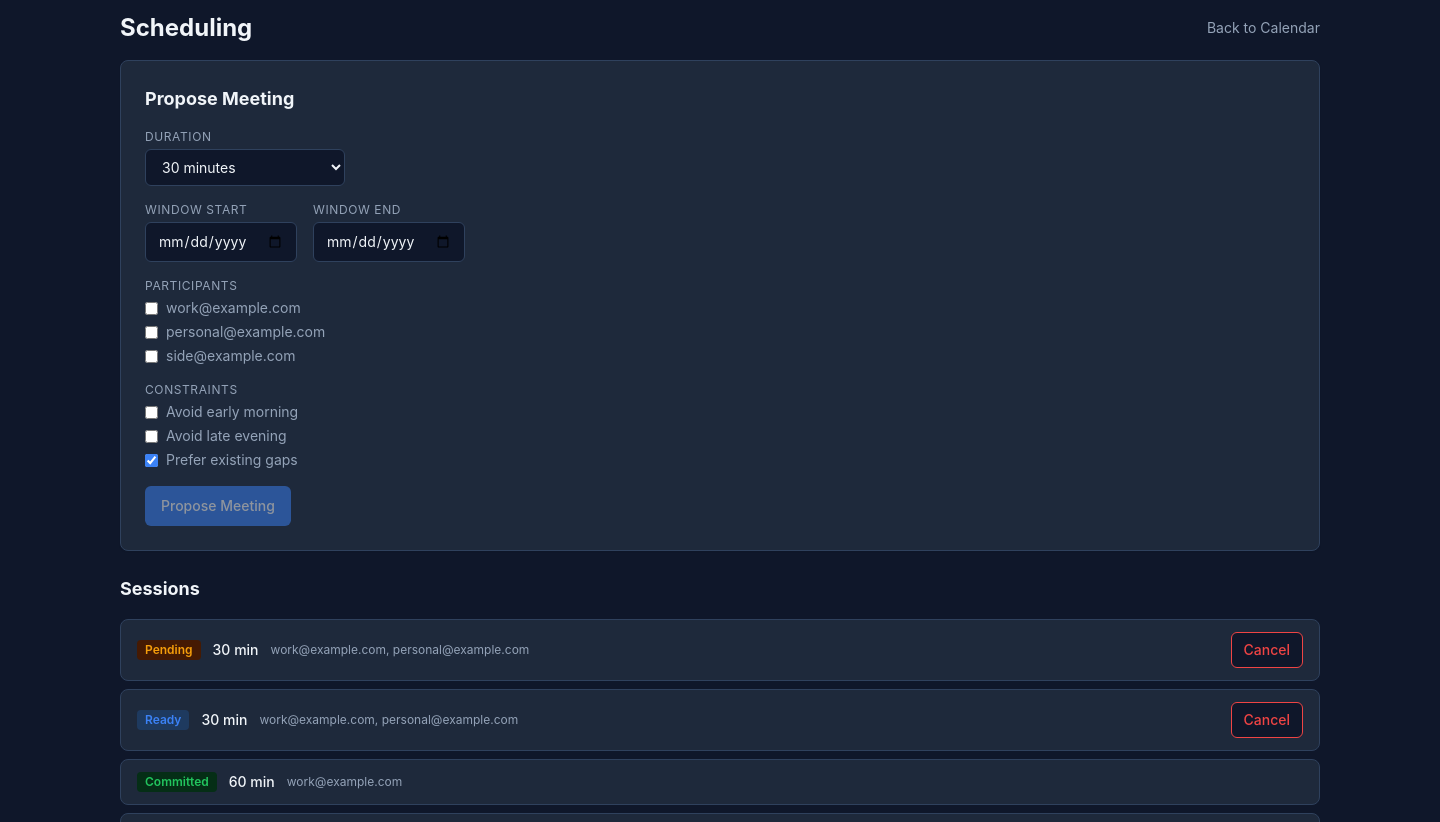
Test: Scheduling Page › integration: form submission creates session › shows success message after session creation
# Select a participant (required)
Click the label with test id "participant-acc_1".
click(223, 308)  # box [145, 299, 301, 316]
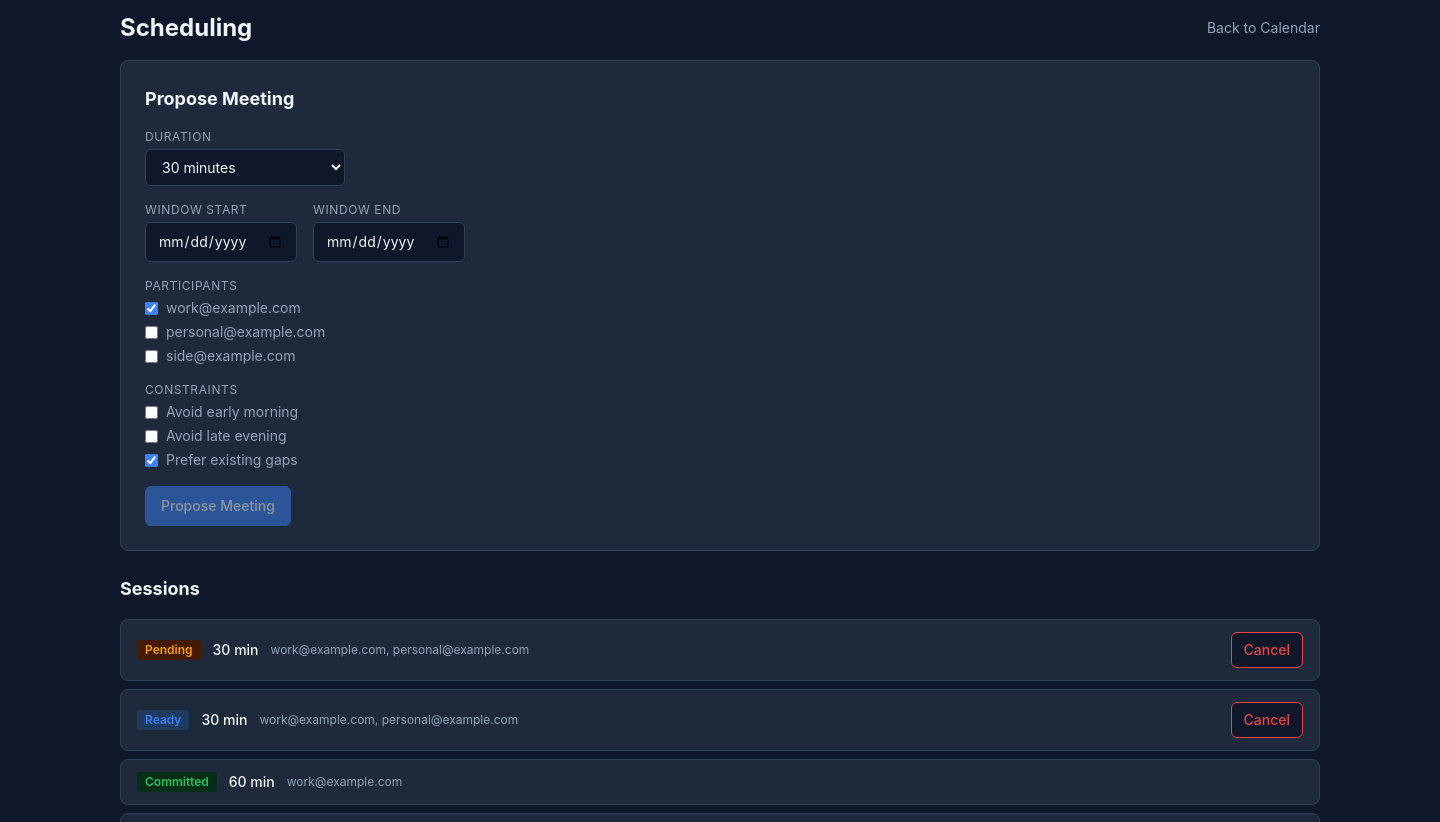
# Set window dates
Type "2026-02-20" into the date field with test id "window-start".
click(221, 242); type("2026-02-20")  # box [145, 222, 297, 262]
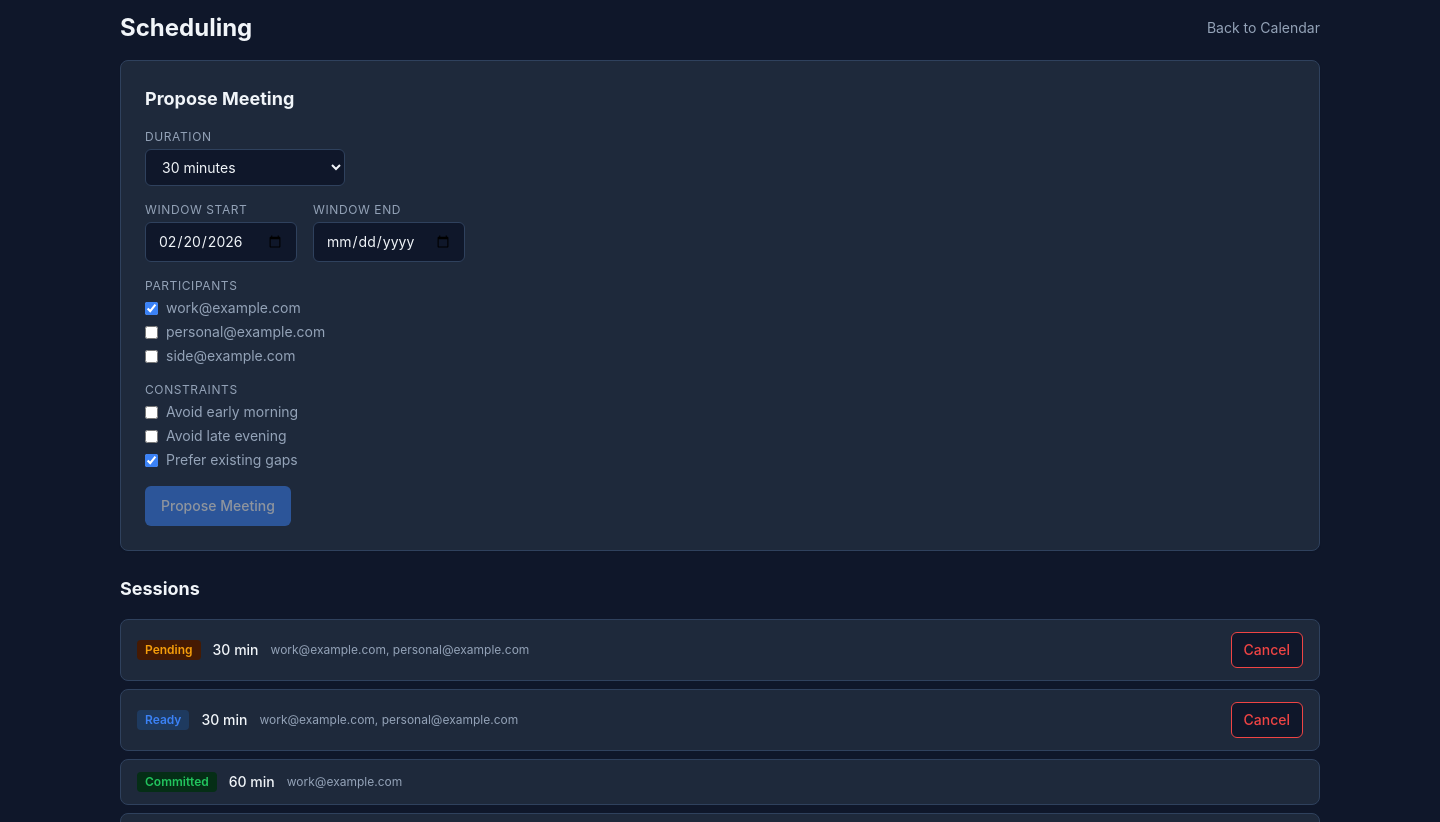
Type "2026-02-22" into the date field with test id "window-end".
click(389, 242); type("2026-02-22")  # box [313, 222, 465, 262]
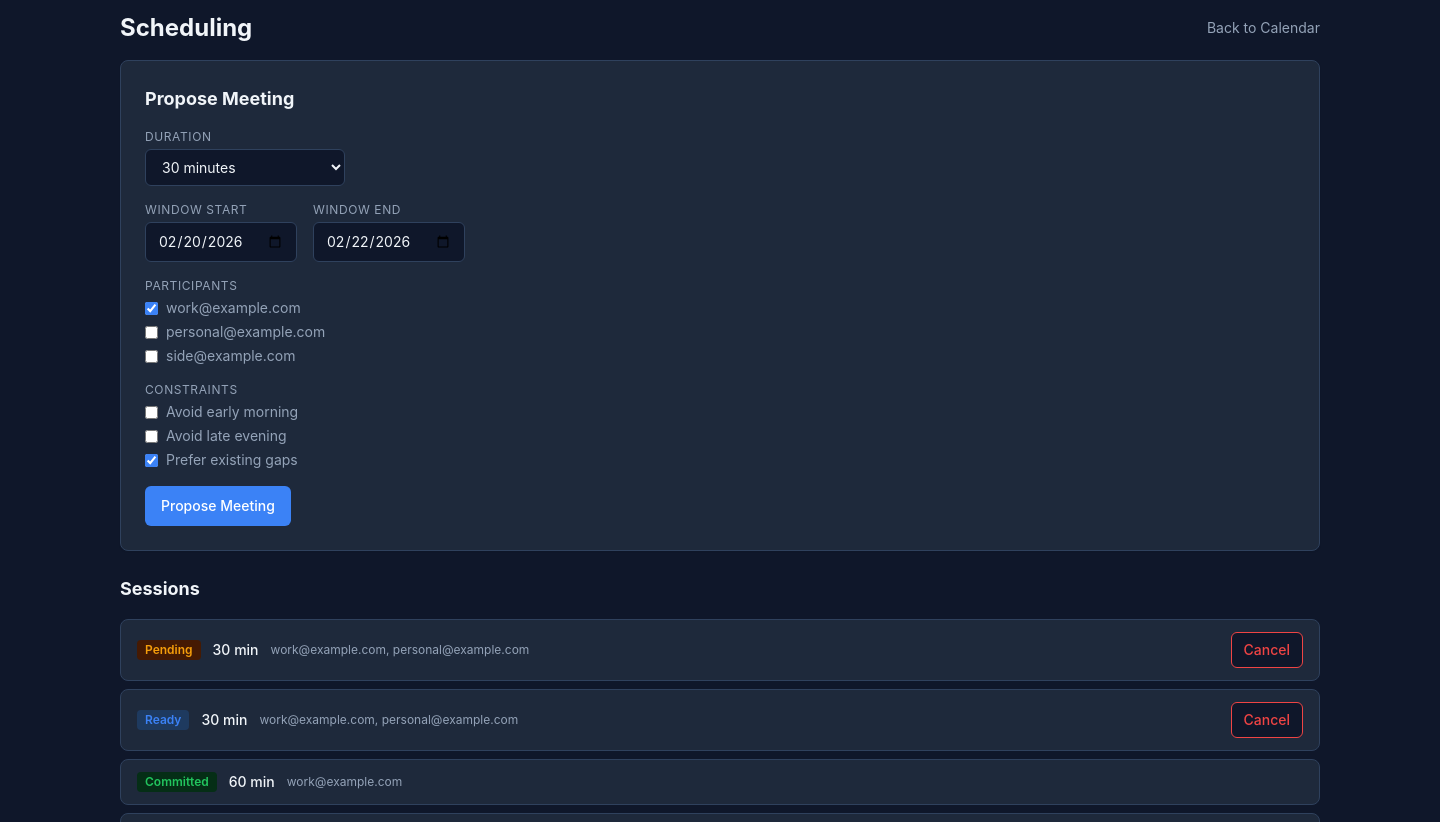
Click the button with test id "propose-meeting-btn".
click(218, 506)  # box [145, 486, 291, 526]
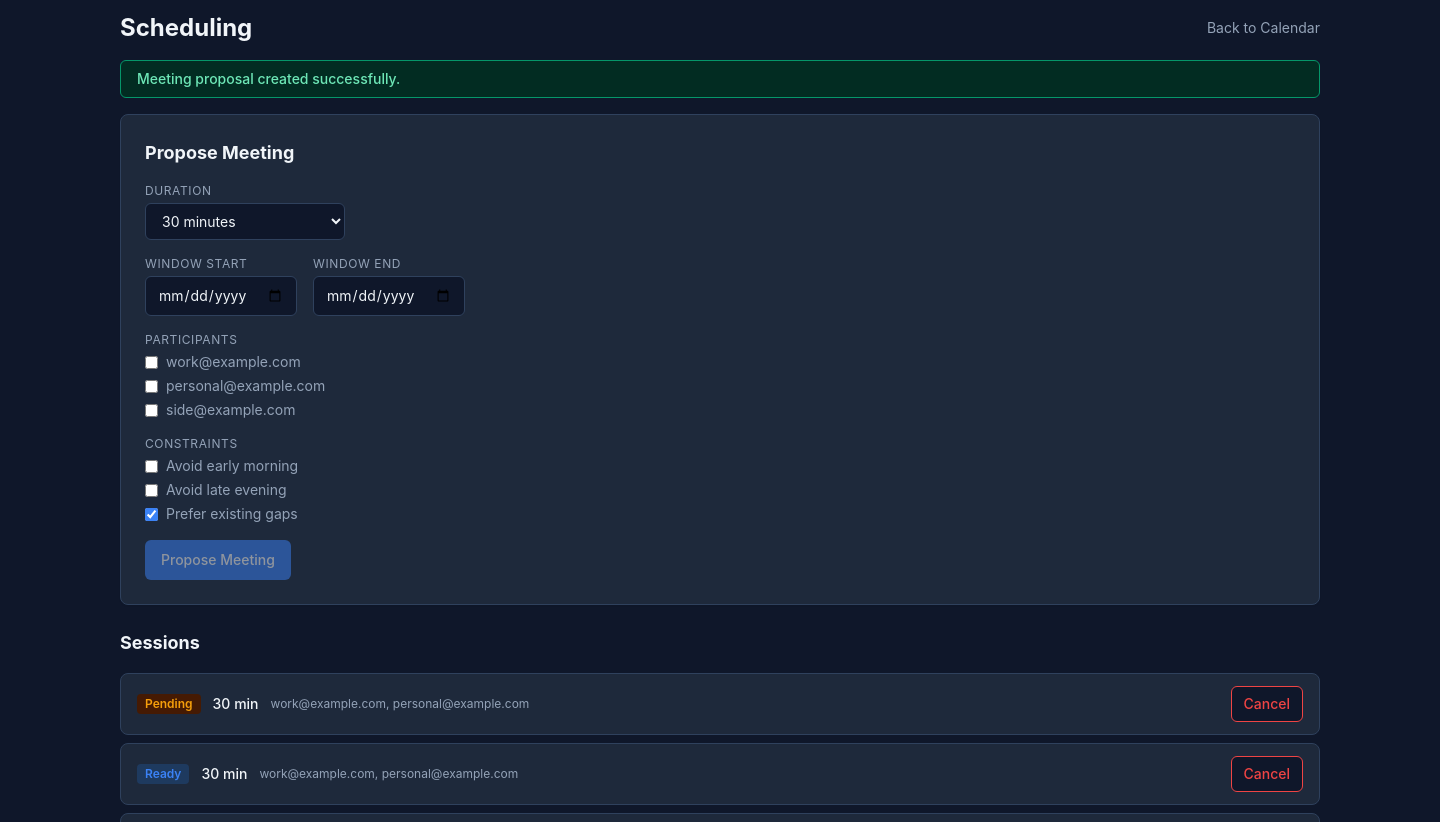
Expected: the text "Meeting proposal created successfully." is shown, [120, 60, 1320, 98]
